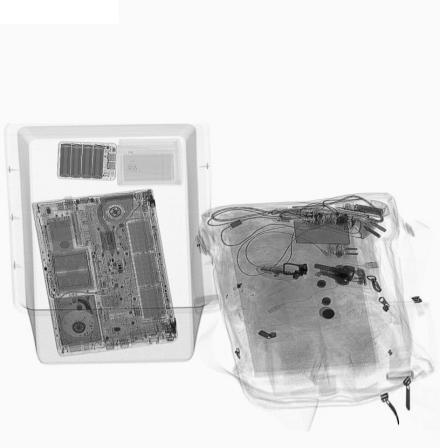Powerbank: (53, 142, 116, 181)
